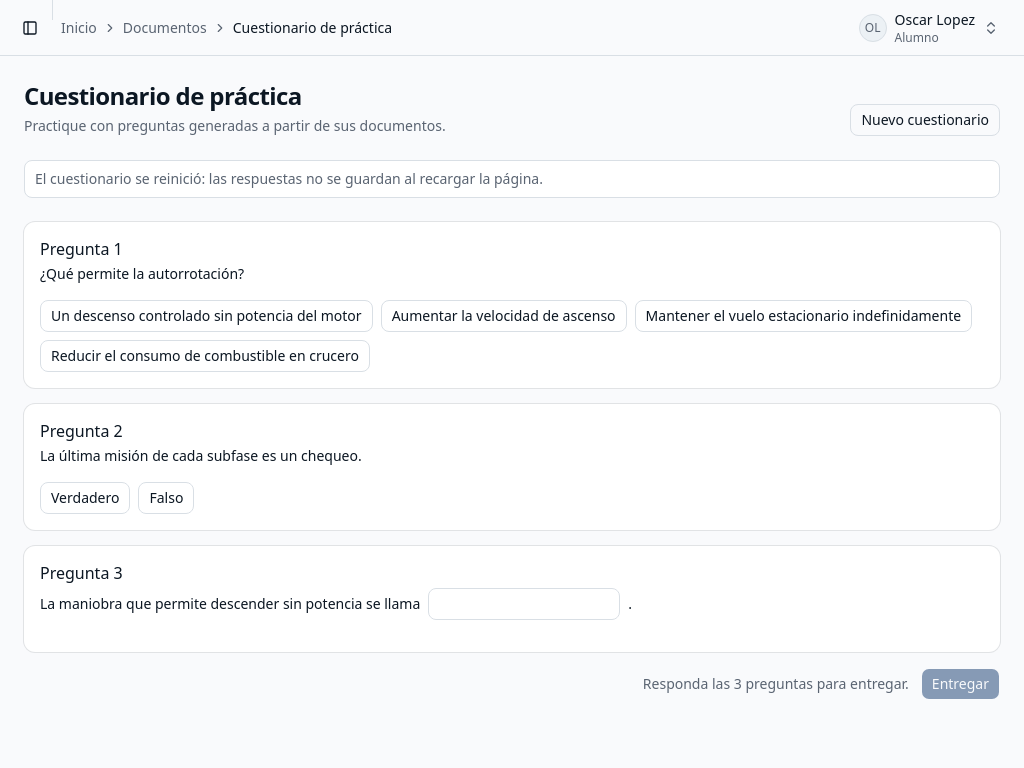
Test case: Resolver el cuestionario de práctica › CA-CUE-09 al entregar muestra los aciertos, el porcentaje, cada respuesta y A10
The width and height of the screenshot is (1024, 768).
Check: the element "Pregunta 1" is shown, box [24,222,1000,388]
Click the radio button labelled "Un descenso controlado sin potencia del motor". click: (206, 316)
box: [40,300,373,332]
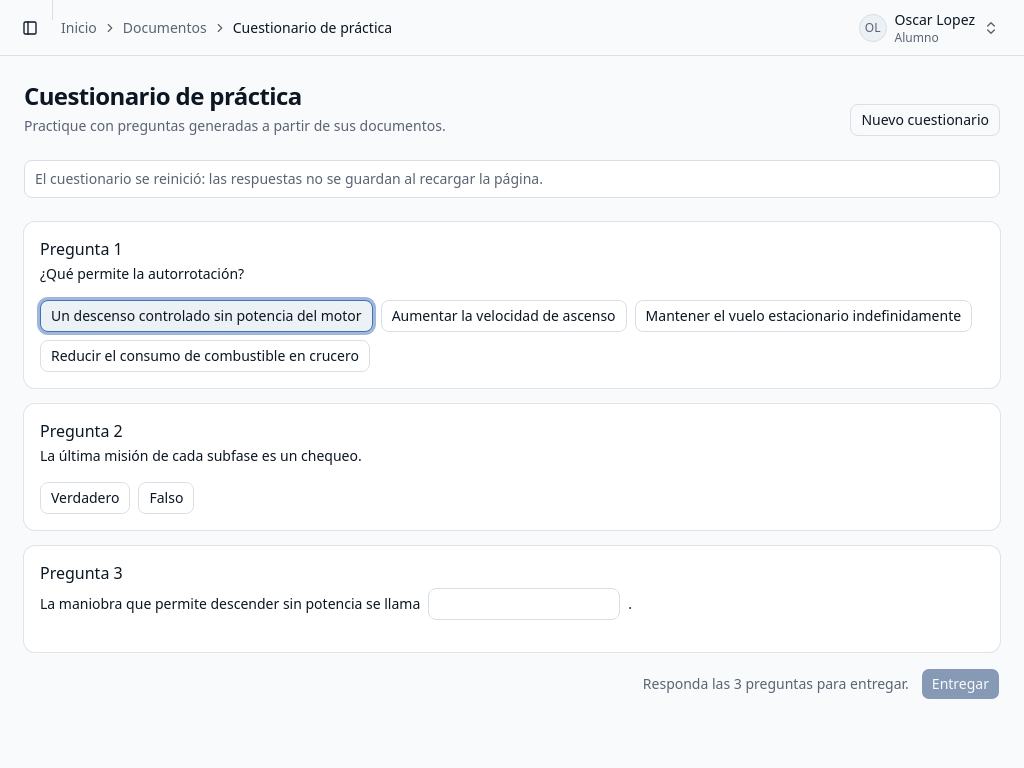
Click the radio button labelled "Verdadero". click: (85, 498)
box: [40,482,130,514]
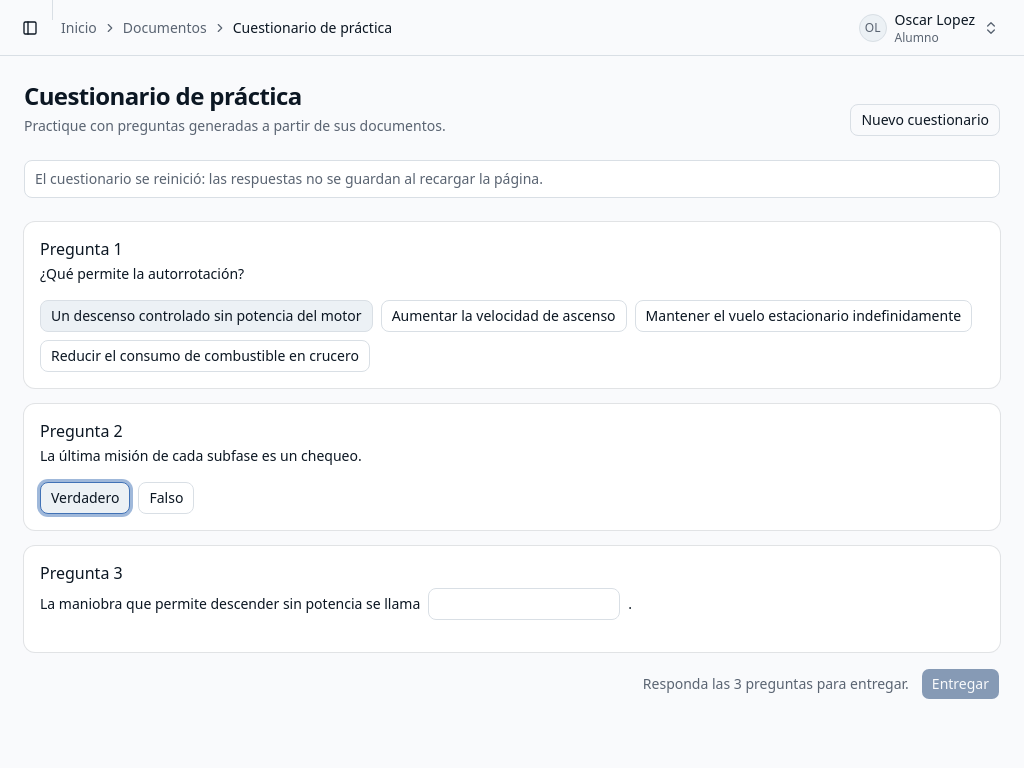
Type "autorrotación" into the field named "Respuesta de la pregunta 3". click: (524, 604)
box: [428,588,620,620]
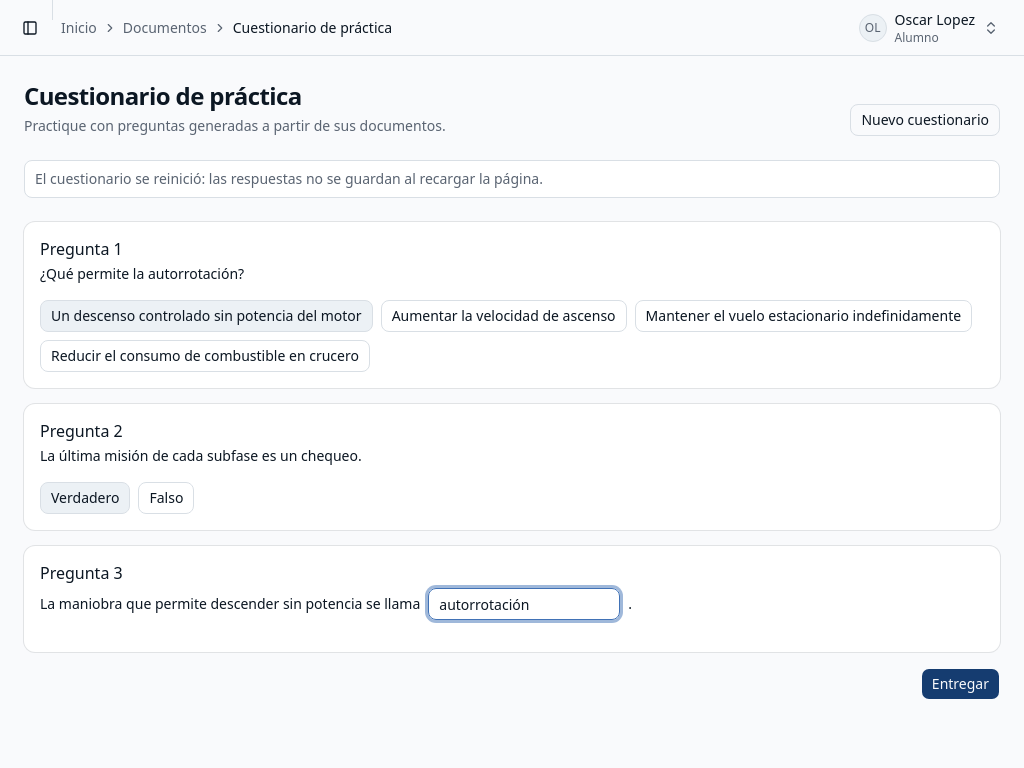
Click the button "Entregar". click: (960, 684)
box: [921,668,1000,700]
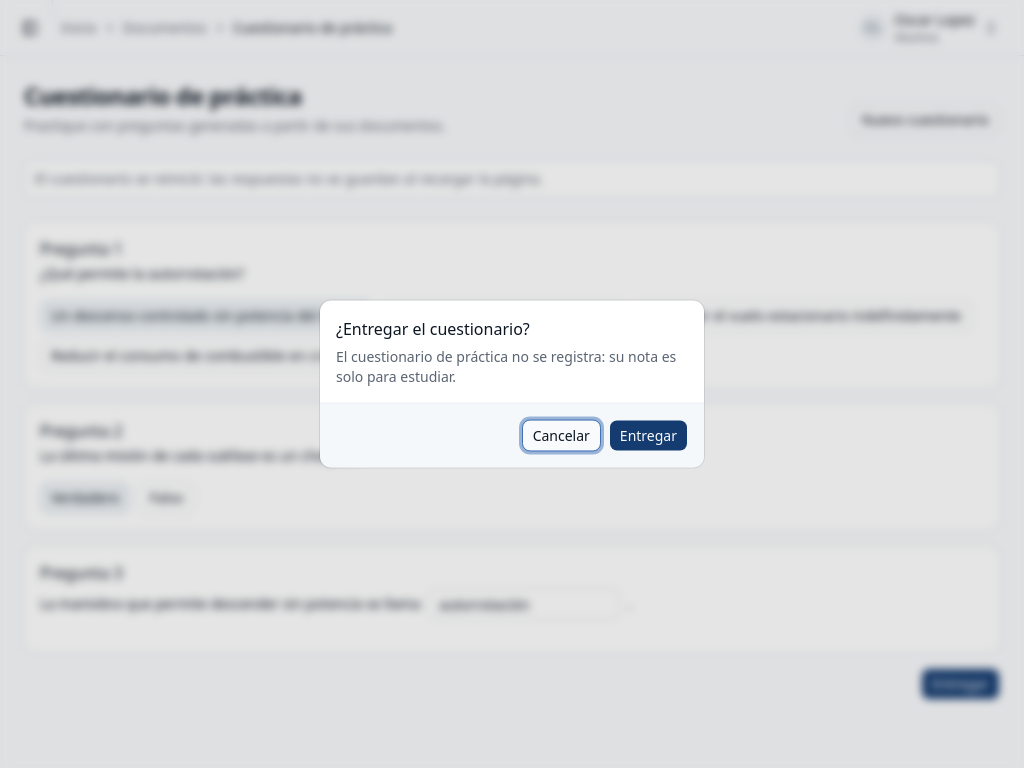
Click the button "Entregar". click: (648, 436)
box: [609,420,688,452]
(page scrolled)
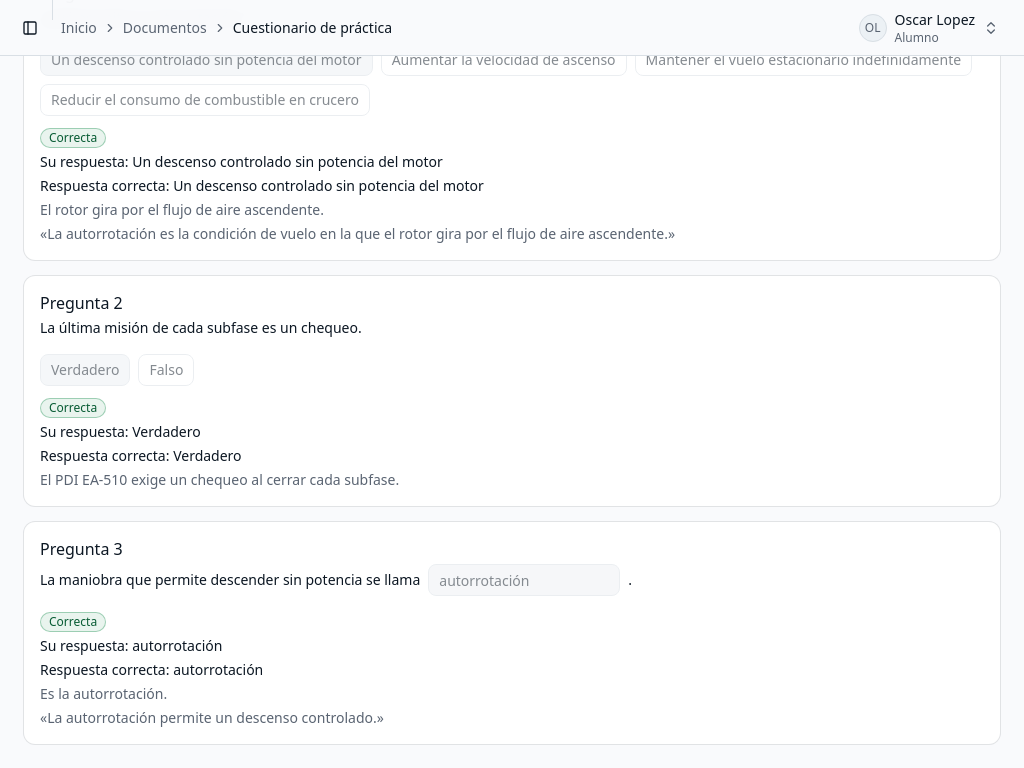
Check: the text "Correcta" below "¿Qué permite la autorrotación?" is shown, box [49,129,97,146]
Check: the text "Su respuesta: Un descenso controlado sin potencia del motor" is shown, box [40,152,443,171]
Check: the text "Respuesta correcta: Un descenso controlado sin potencia del motor" is shown, box [40,176,484,195]
